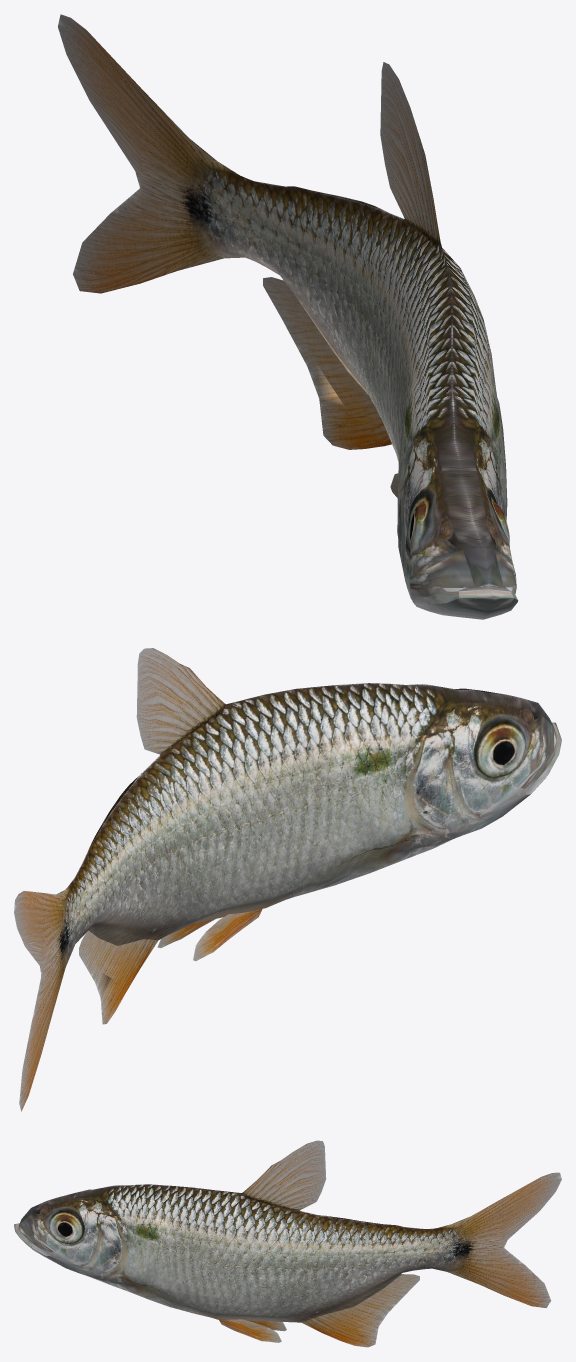
Rendered from Mojarra_animacion.glb.
3 views of the same model, one above another, from view 1: azimuth 30°, elevation 25°; view 2: azimuth 150°, elevation 25°; view 3: azimuth 270°, elevation 25° (orthographic). The views are drawn at different scales.
Parts seen in each view (by area): view 1: MOJARRA; view 2: MOJARRA; view 3: MOJARRA.
Boxes of the visible parts, bbox=[...] form: MOJARRA: bbox=[58, 14, 518, 619]; MOJARRA: bbox=[14, 648, 561, 1111]; MOJARRA: bbox=[14, 1140, 561, 1347].
Bounding box in the file's own units: 0.0558 × 0.0865 × 0.2062.
1 material, 1 textured.
